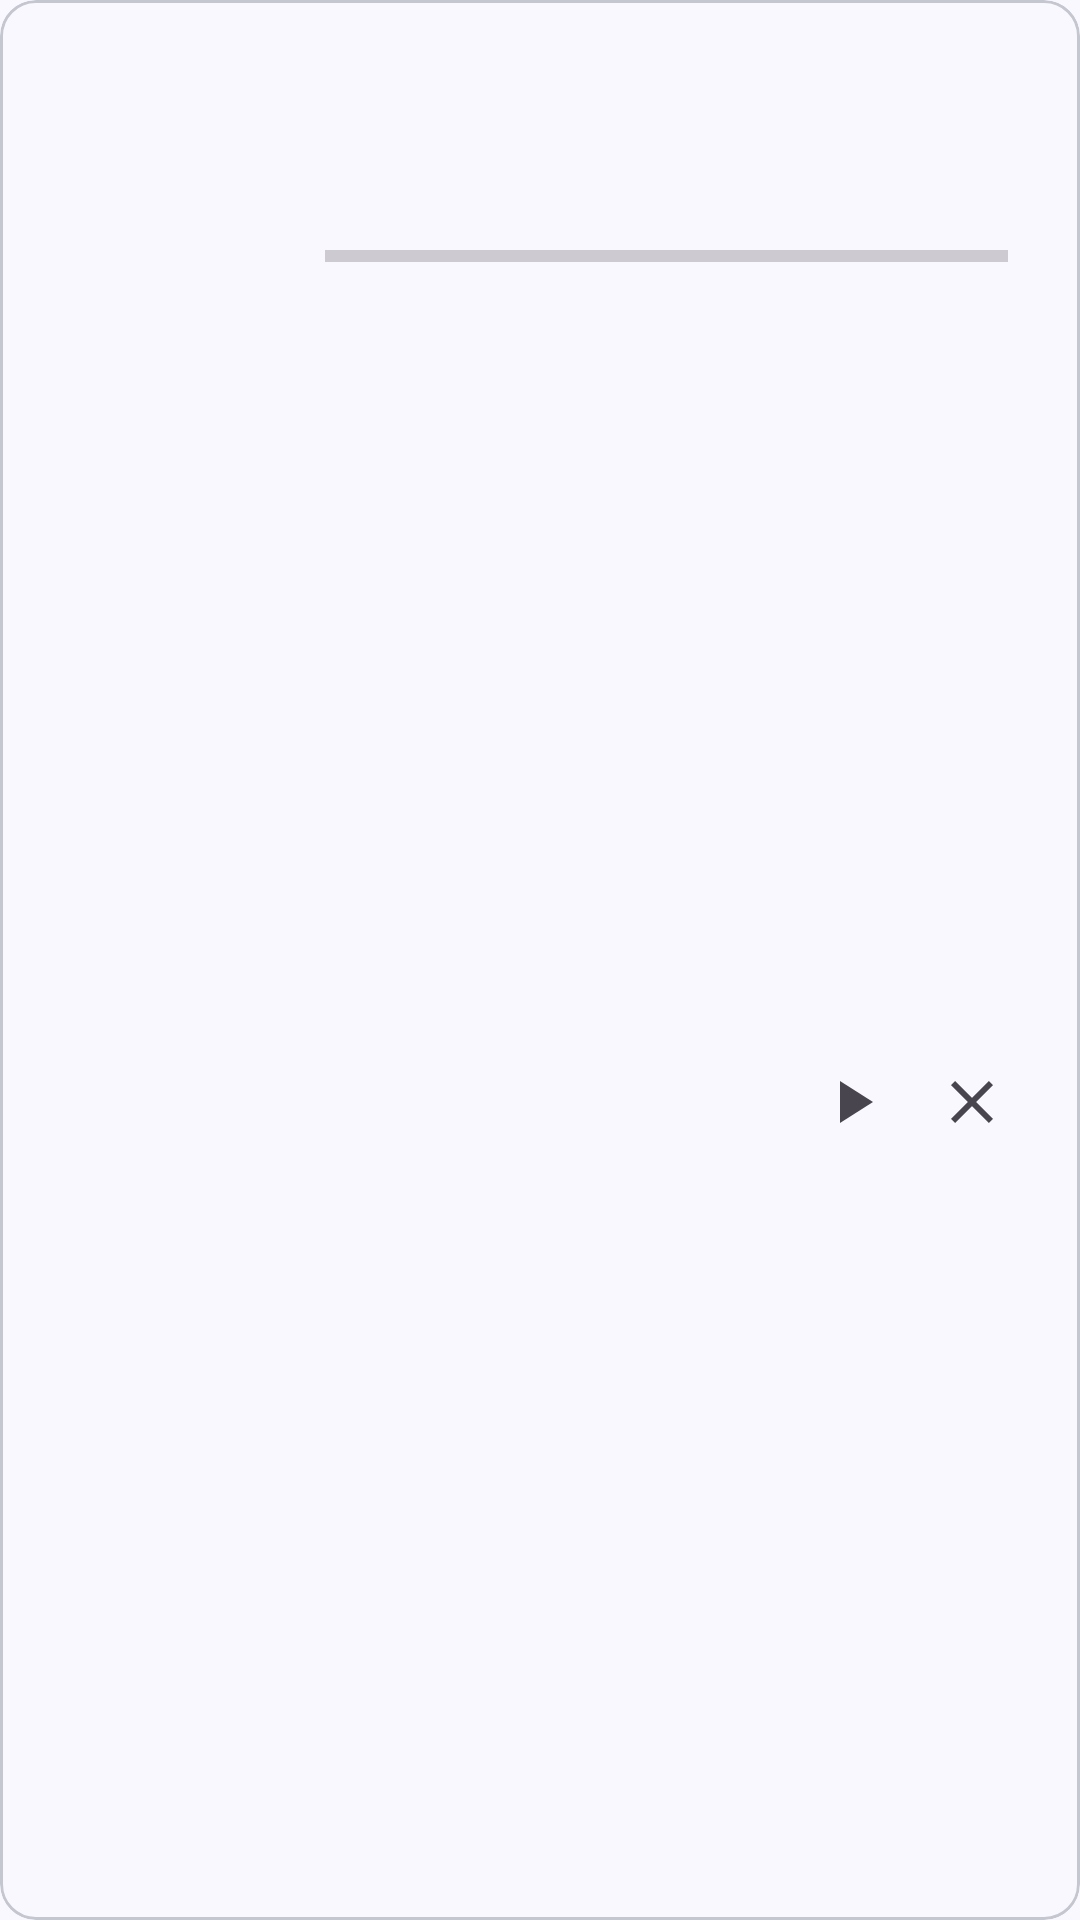

Screen size 1080×1920. Icon name, then its center in pixels as (x,y):
Start download: (856,1102)
Stop download: (972,1102)
